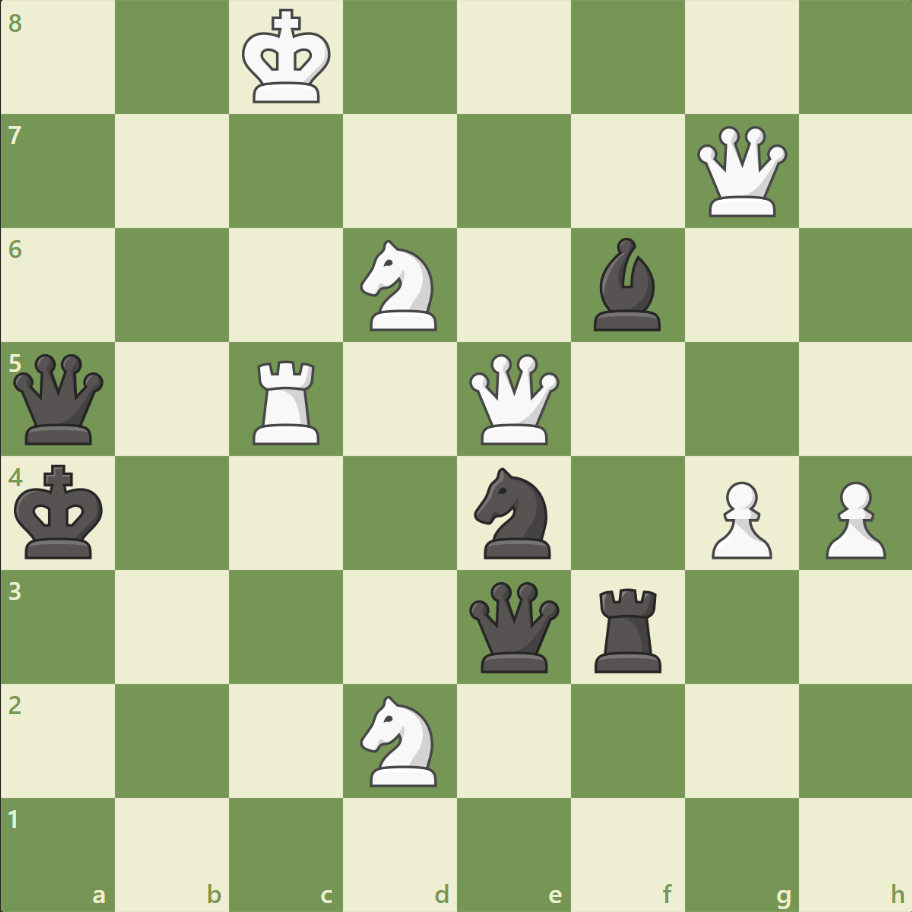K: (238, 4, 338, 112)
N: (351, 234, 449, 337), (351, 688, 449, 791)
P: (701, 473, 776, 564), (815, 473, 889, 564)
Q: (691, 122, 790, 222), (464, 349, 563, 449)
R: (246, 352, 329, 449)
b: (585, 233, 669, 336)
k: (11, 458, 111, 566)
n: (465, 461, 562, 564)
q: (10, 349, 109, 449), (464, 576, 563, 676)
r: (587, 579, 670, 676)
